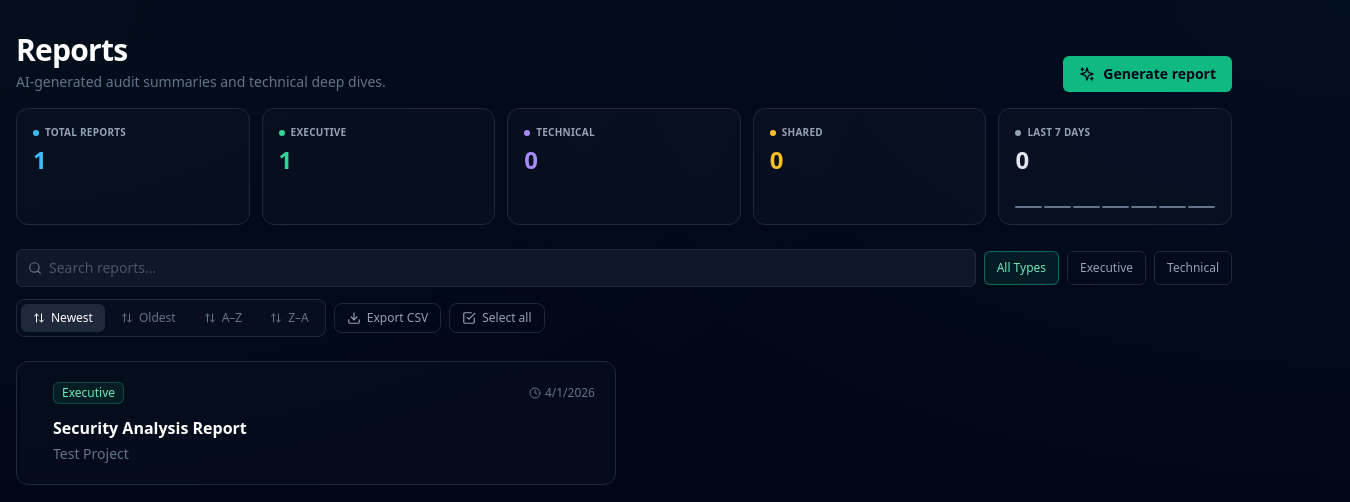
Scenario: Reports — ReportView functions › shows report title in ReportView
The width and height of the screenshot is (1350, 502).
What coordinates should you click on to do the following:
click the heading "Security Analysis Report"
I would click on:
 (150, 428)
Its box is [53,417,247,439].
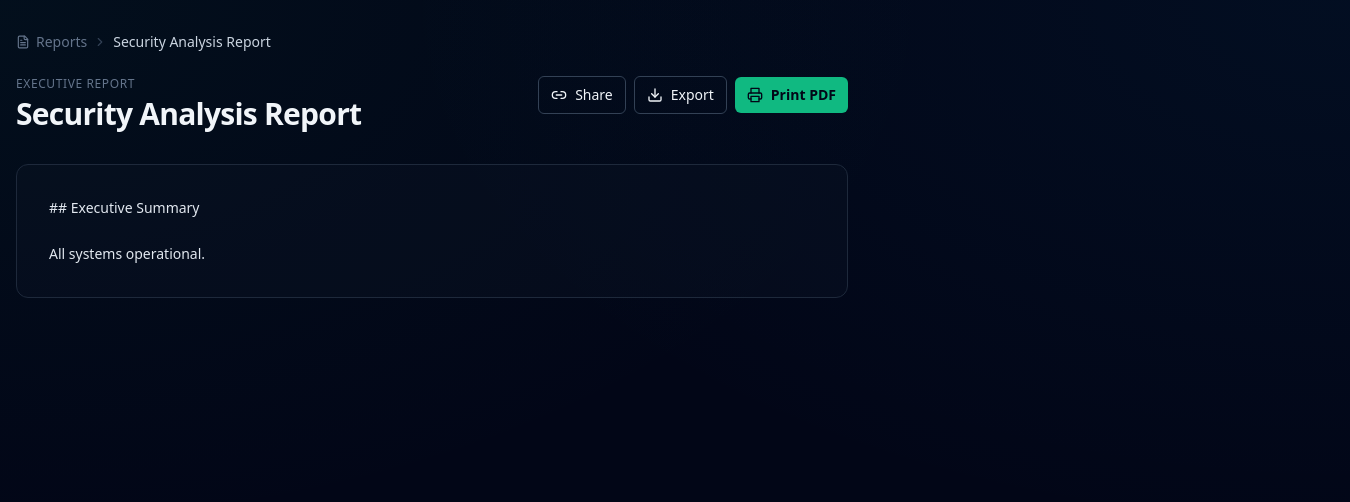
Now the navigation bar named "breadcrumb" is shown, box [16,32,271,52]
Now the text "Security Analysis Report" is shown, box [113,32,271,52]
